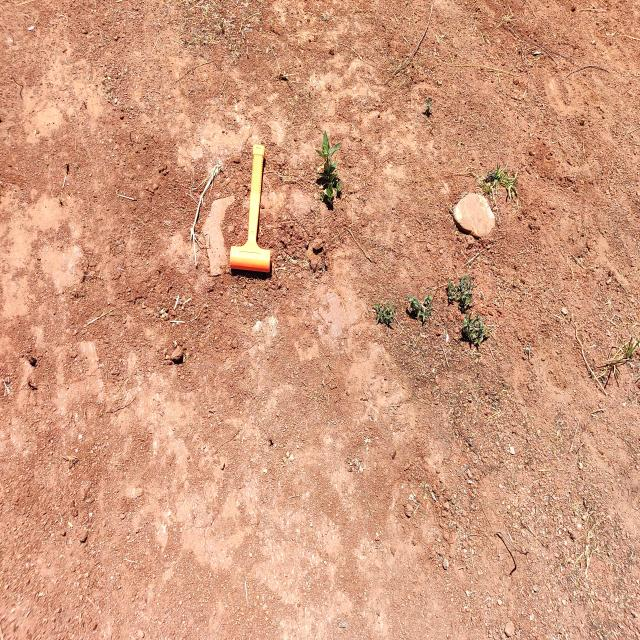Orange_hammer: (228, 143, 272, 276)
